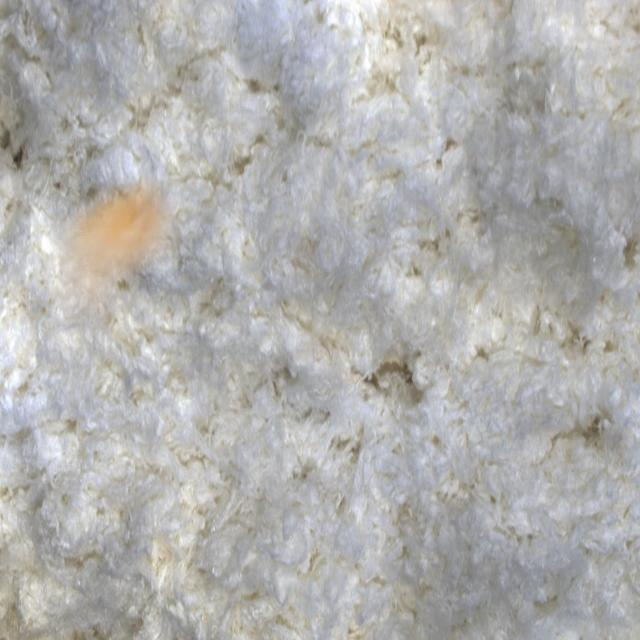dust: (45, 176, 195, 357)
